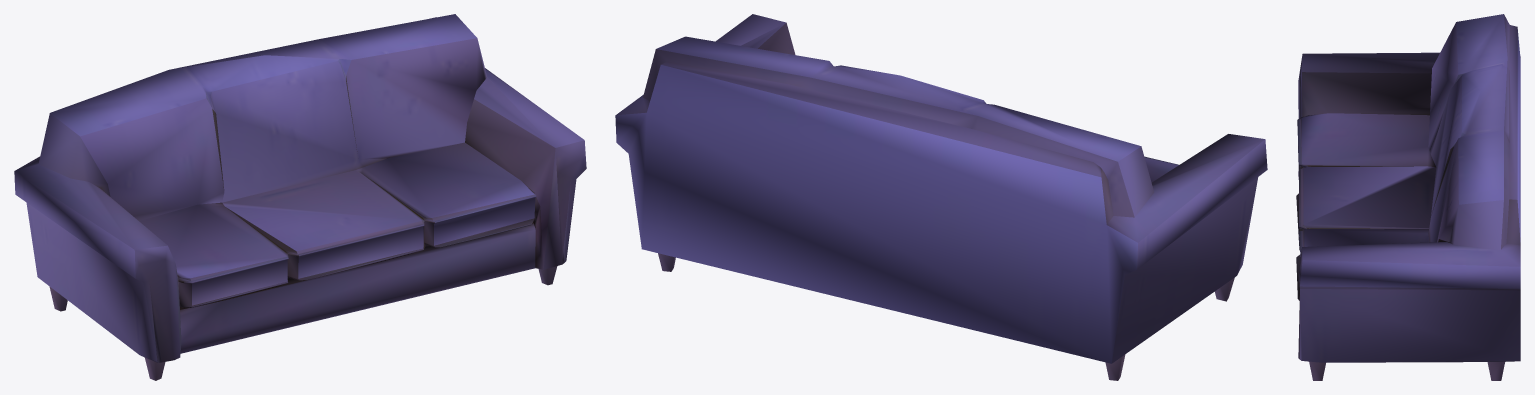
File: model.progressive.glb
3 views of the same model, side by side, from view 1: azimuth 30°, elevation 25°; view 2: azimuth 150°, elevation 25°; view 3: azimuth 270°, elevation 25° (orthographic). The views are drawn at different scales.
Parts seen in each view (by area): view 1: material; view 2: material; view 3: material.
Part boxes in pixels (box(x1,y1,x2,y2)): material: box(14, 14, 586, 380); material: box(615, 14, 1267, 380); material: box(1296, 14, 1520, 380).
Size of the model in its own units: 1.85 by 0.8182 by 0.8357.
Materials: 1 (1 with a texture image).
